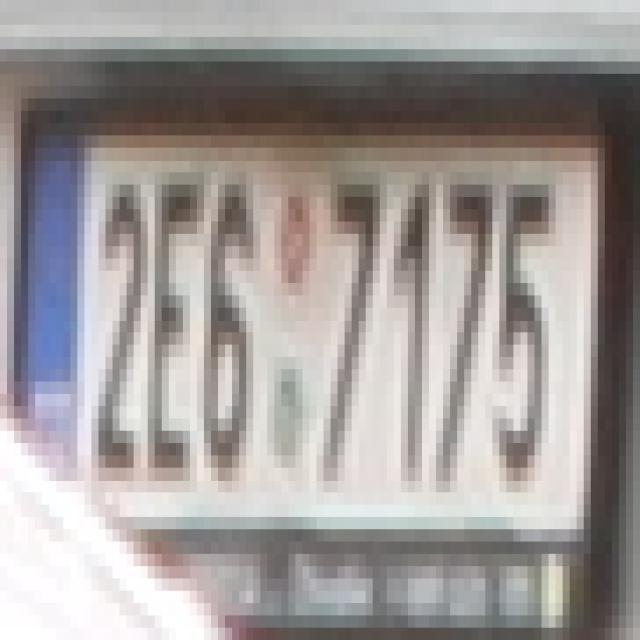1: (380, 172, 429, 492)
2: (77, 184, 148, 480)
5: (499, 172, 556, 480)
6: (196, 184, 254, 480)
7: (436, 172, 492, 492), (316, 160, 373, 468)
E: (141, 160, 197, 468)
